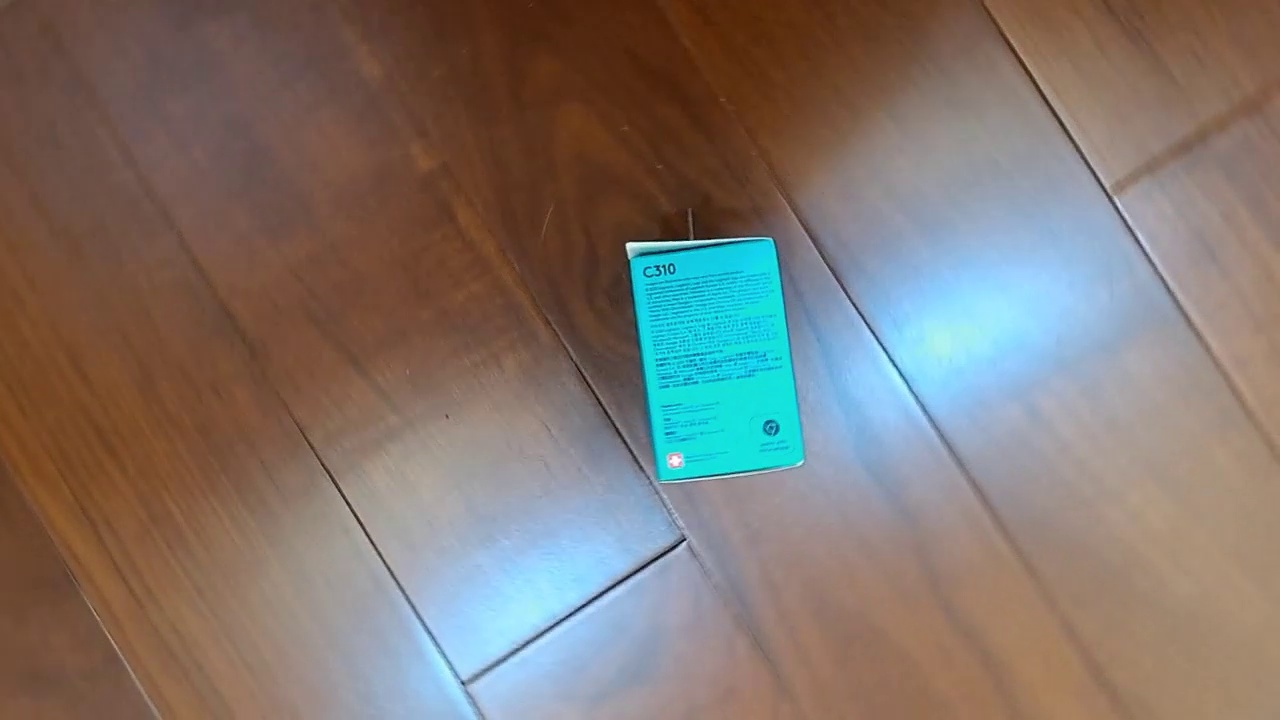webcam: (623, 234, 806, 486)
